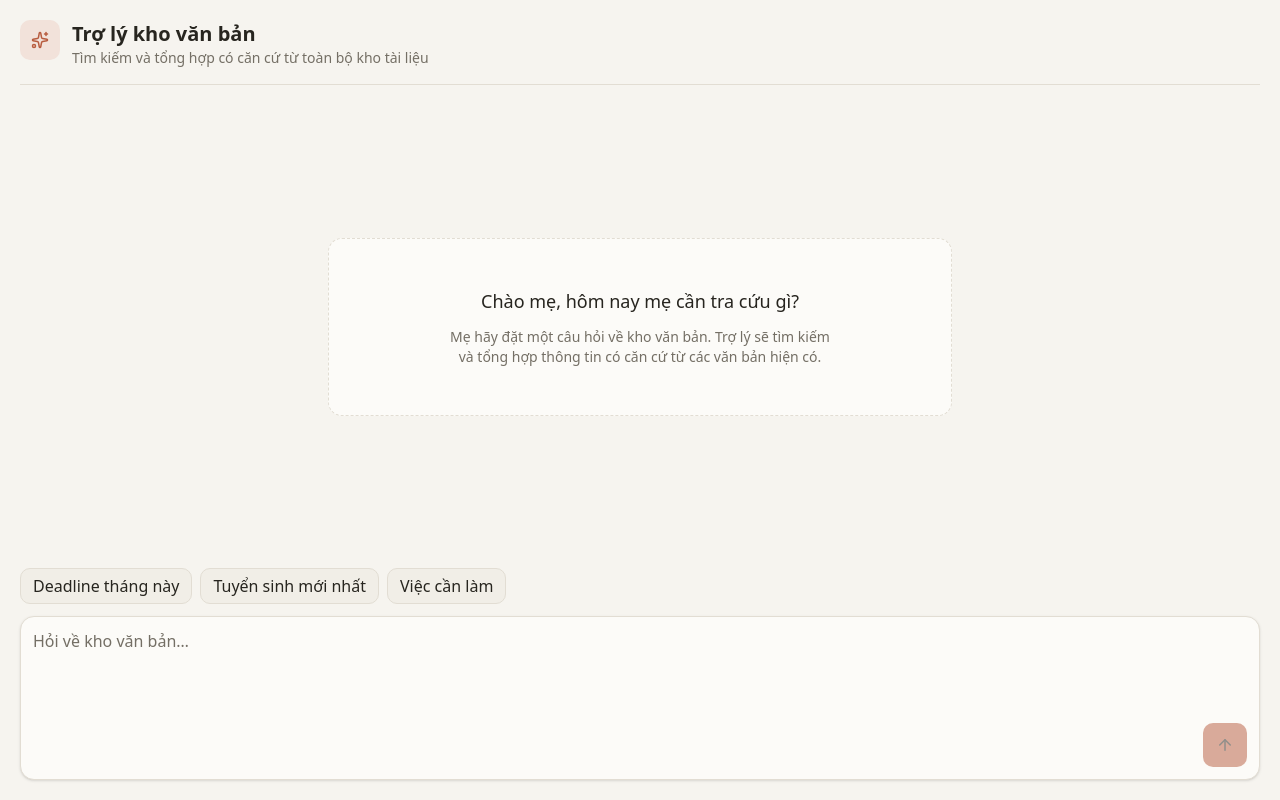
Test: ArchiveAssistantPanel › 1. Asking a question renders the answer and one group per document, each group naming its document number
The width and height of the screenshot is (1280, 800).
Type "Tuyển sinh mới nhất?" into the text box named "Câu hỏi" at (640, 669), box top-left (33, 629), bottom-right (1247, 709)
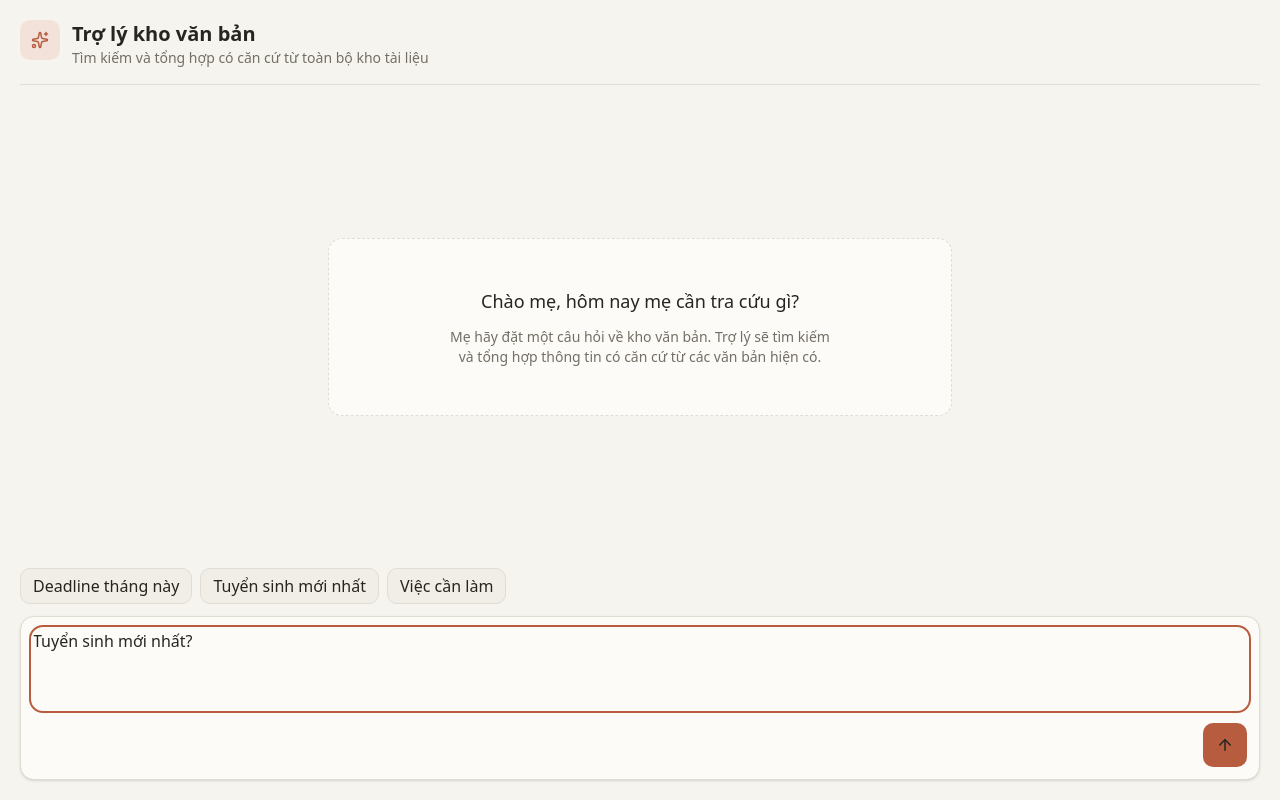
Click the button named "Gửi câu hỏi" at (1225, 745), box top-left (1203, 723), bottom-right (1247, 767)
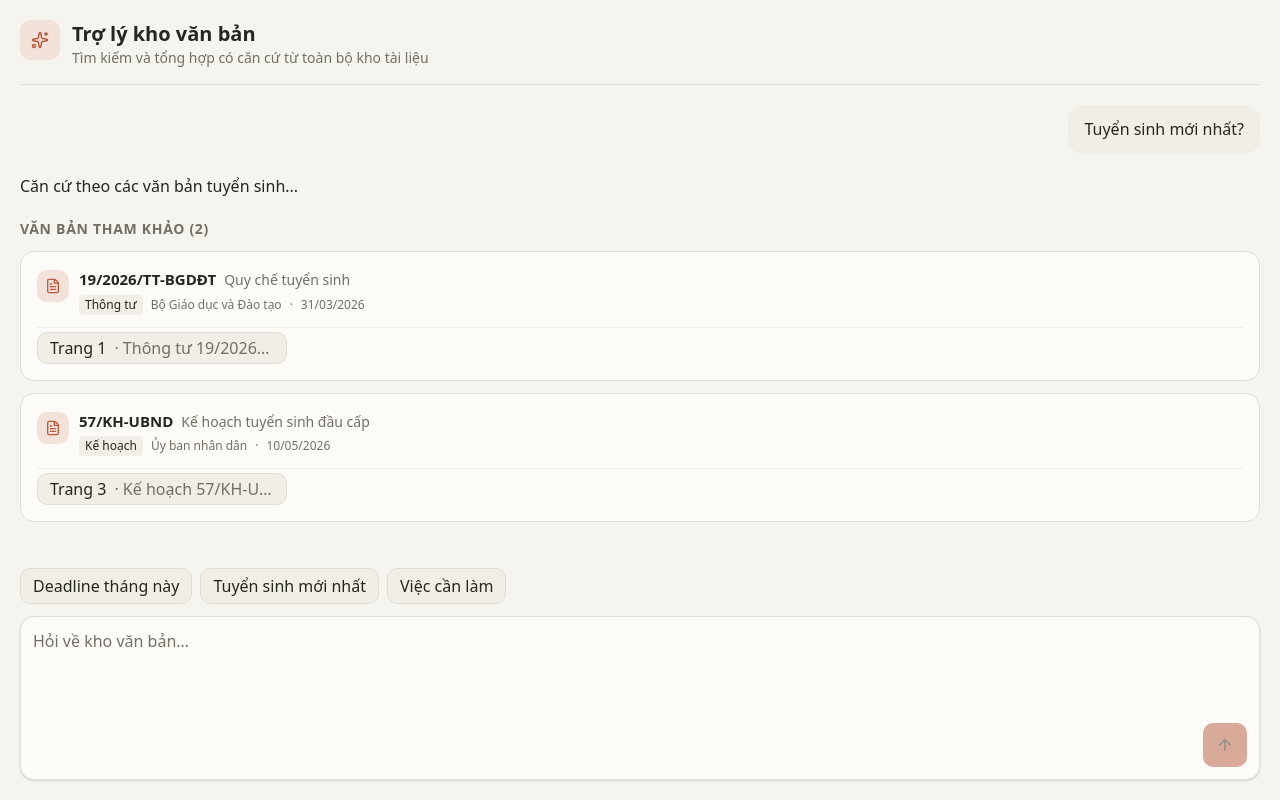
Now the text "Căn cứ theo các văn bản tuyển sinh..." is shown, box top-left (20, 175), bottom-right (298, 197)
Now the text "19/2026/TT-BGDĐT" is shown, box top-left (79, 268), bottom-right (216, 290)
Now the text "57/KH-UBND" is shown, box top-left (79, 410), bottom-right (173, 432)
